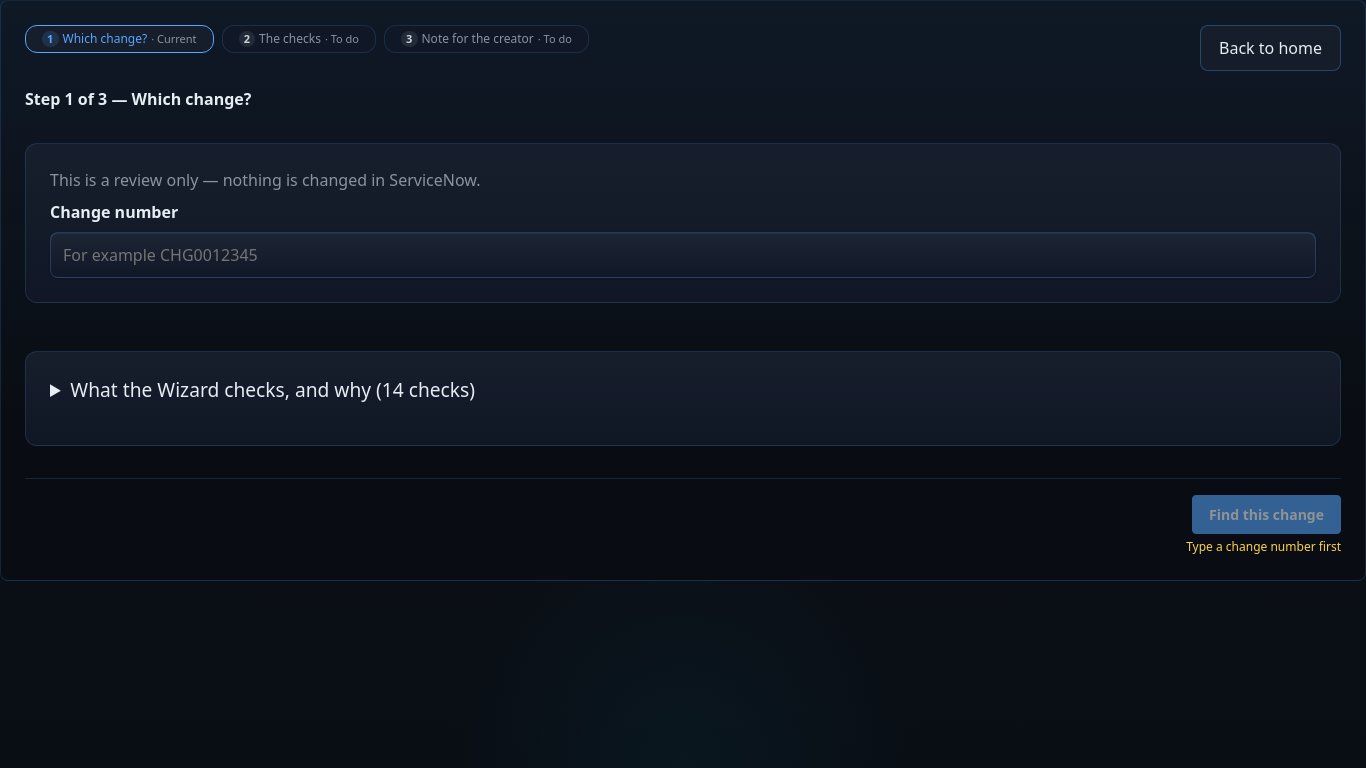
Test: ReviewWizard › says plainly when the change cannot be found, and stays on the first step
The image size is (1366, 768).
Type "CHG404" into the field labelled "Change number" at point(683, 255), box [50,232,1316,278]
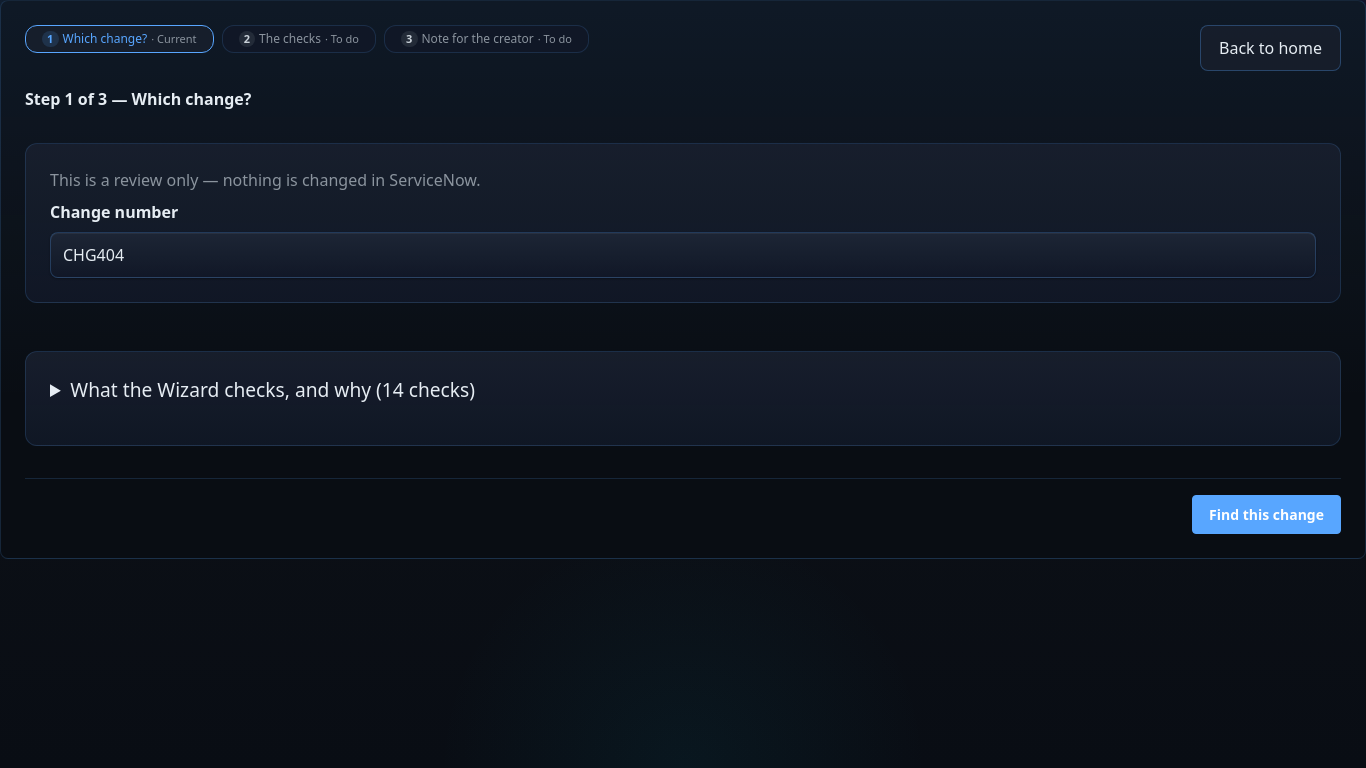
Click the button "Find this change" at point(1266, 514), box [1192,495,1341,534]
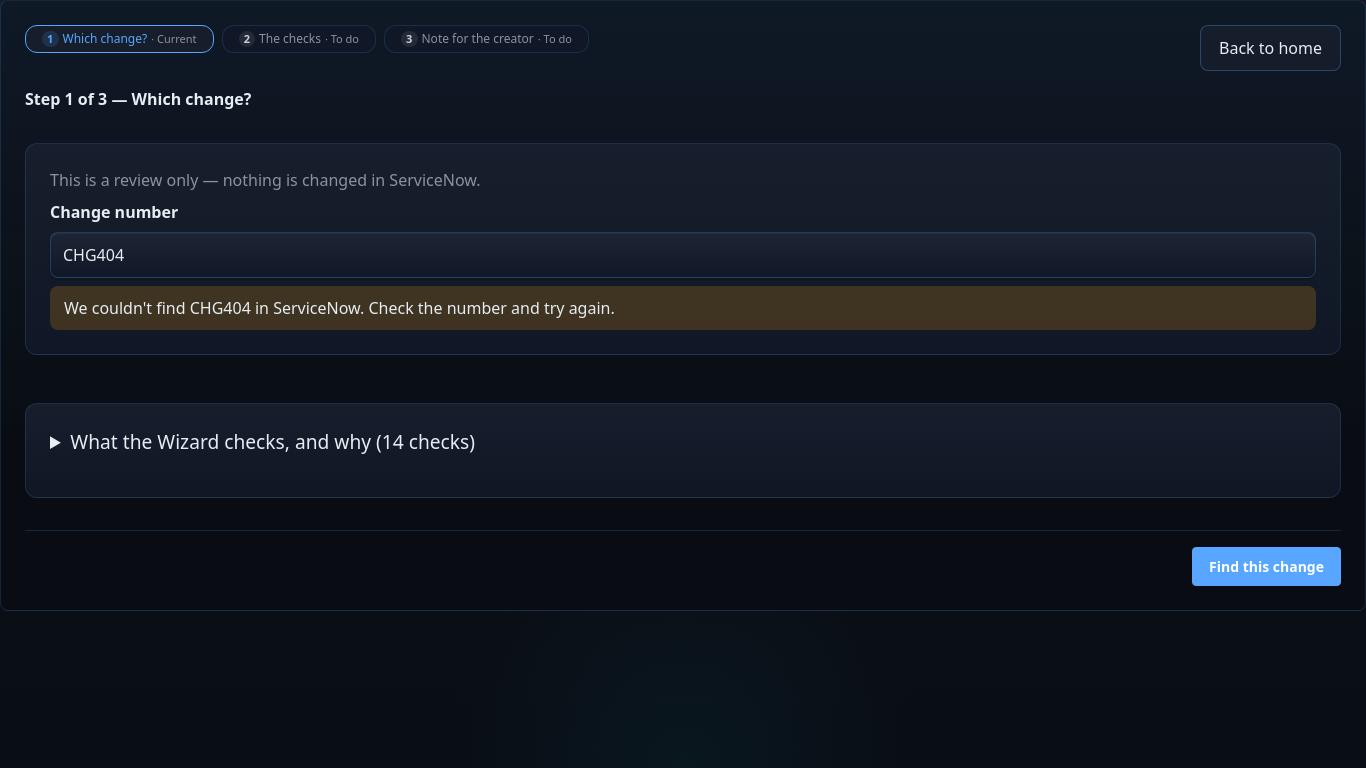
expect the message shows "couldn't find CHG404": met, box [64,297,615,319]
